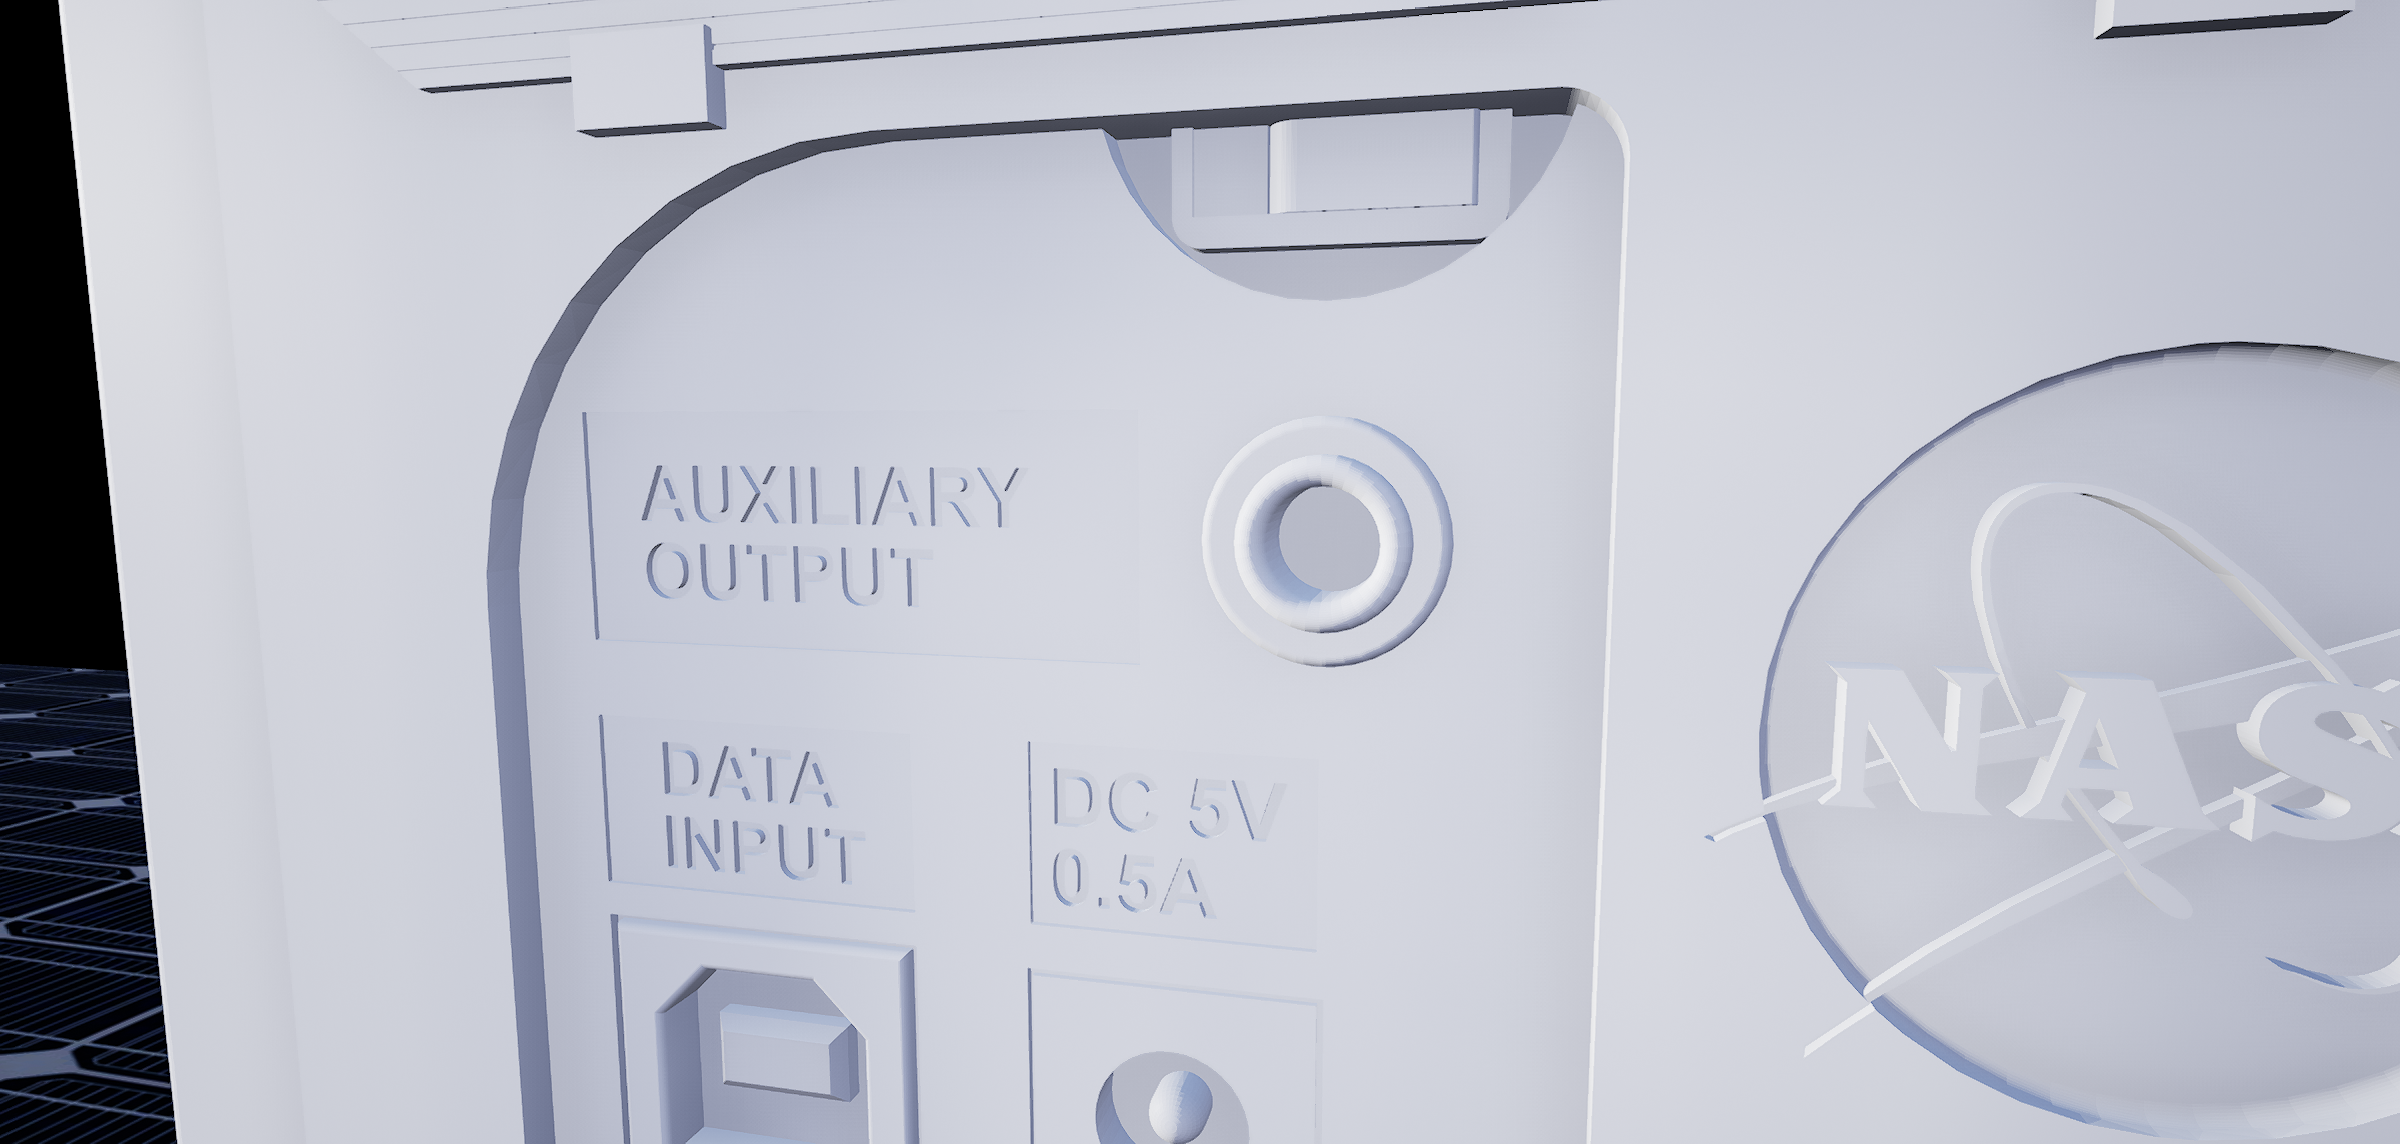aux: (1182, 401, 1469, 714)
dc: (1068, 1028, 1260, 1144)
usb: (647, 946, 880, 1144)
